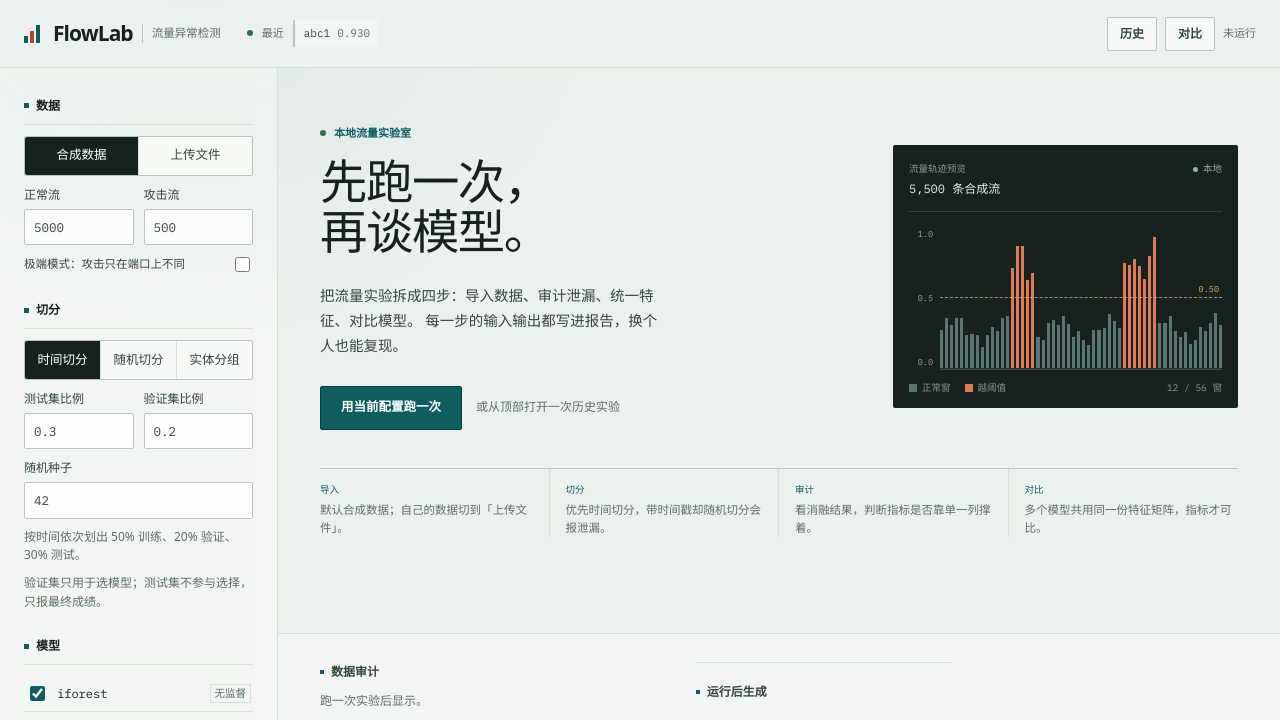
Scenario: App history restore › opens searchable history and saves annotations
Later steps or results of the test are not shown.
Step 1. Click the button "历史" → (1132, 34), box [1107,16,1157,50]
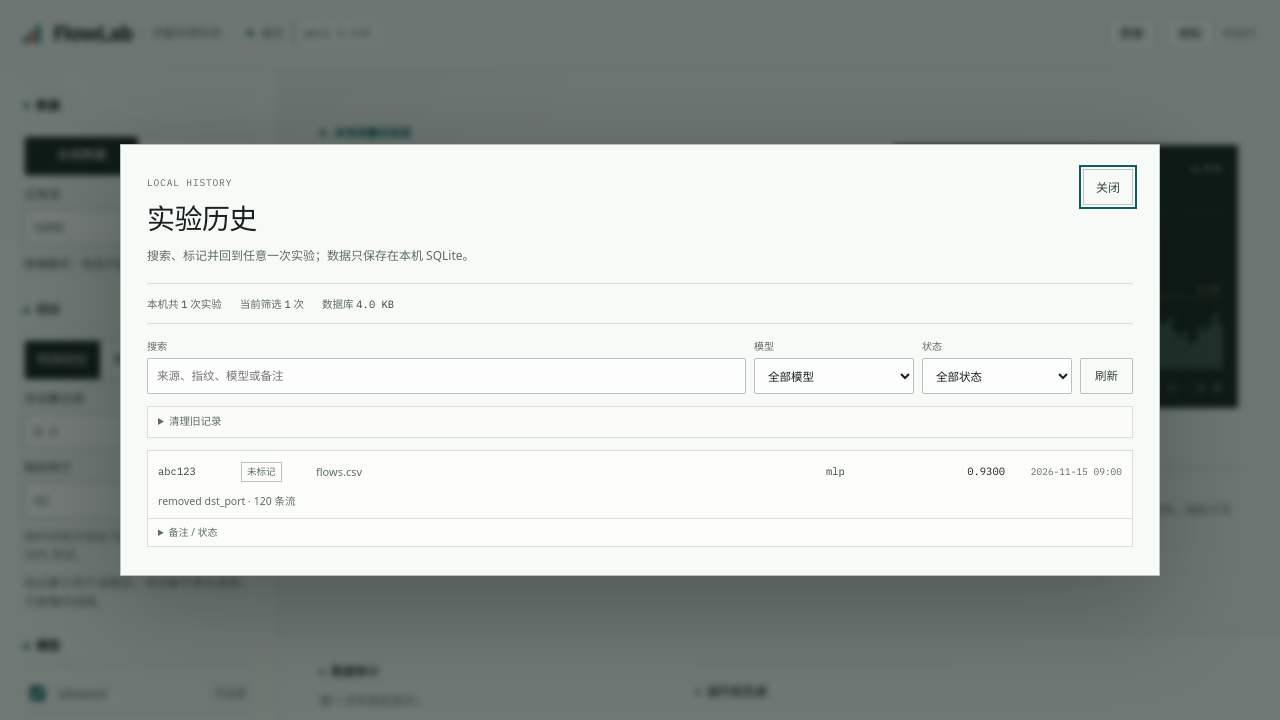
Expected: the dialog "实验历史" is shown, [120,144,1160,576]
Expected: the text "removed dst_port · 120 条流" is shown, [158,494,295,508]
Expected: the text "4.0 KB" is shown, [356,297,394,311]
